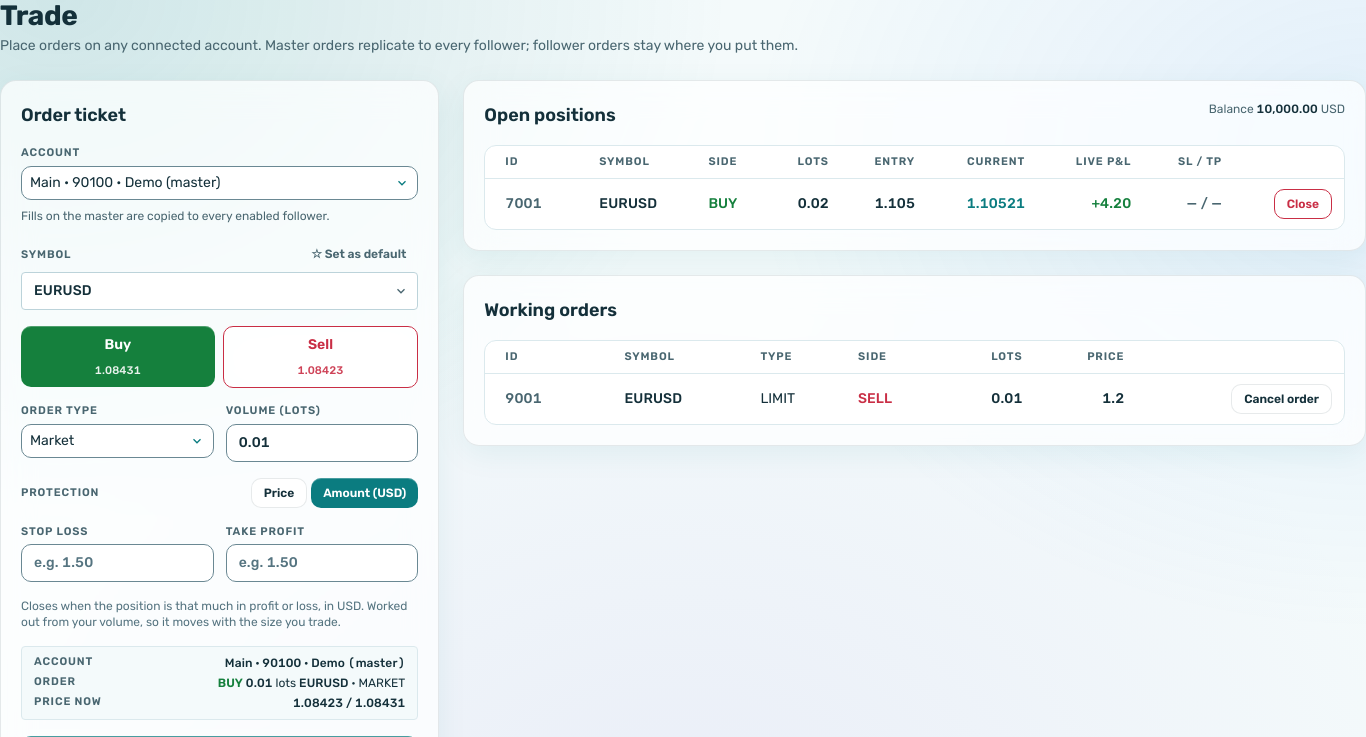
Test: symbol picker searches and selects manually
Replace the text in the dropdown labelled "Symbol" with "gbp" at (220, 291), box [21, 272, 418, 310]
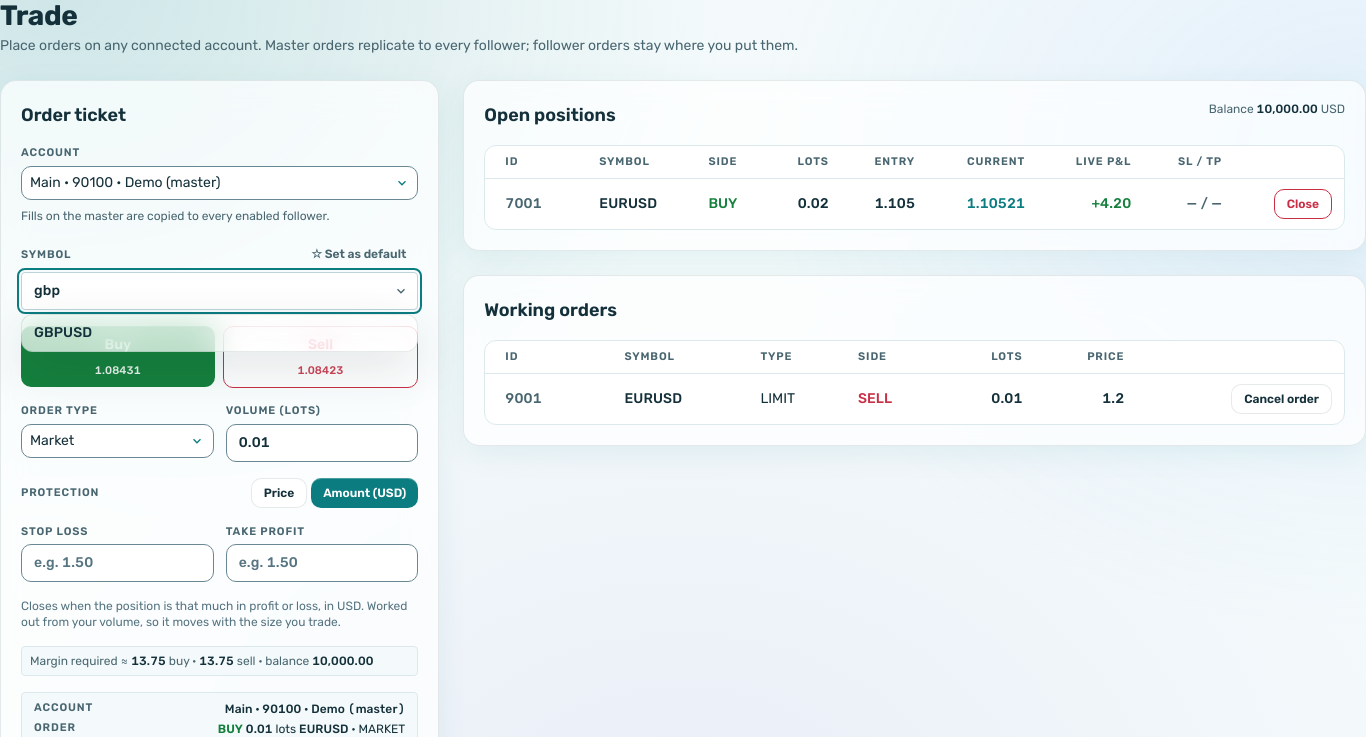
Click the option "GBPUSD".
click(63, 332)  # box [34, 324, 92, 341]
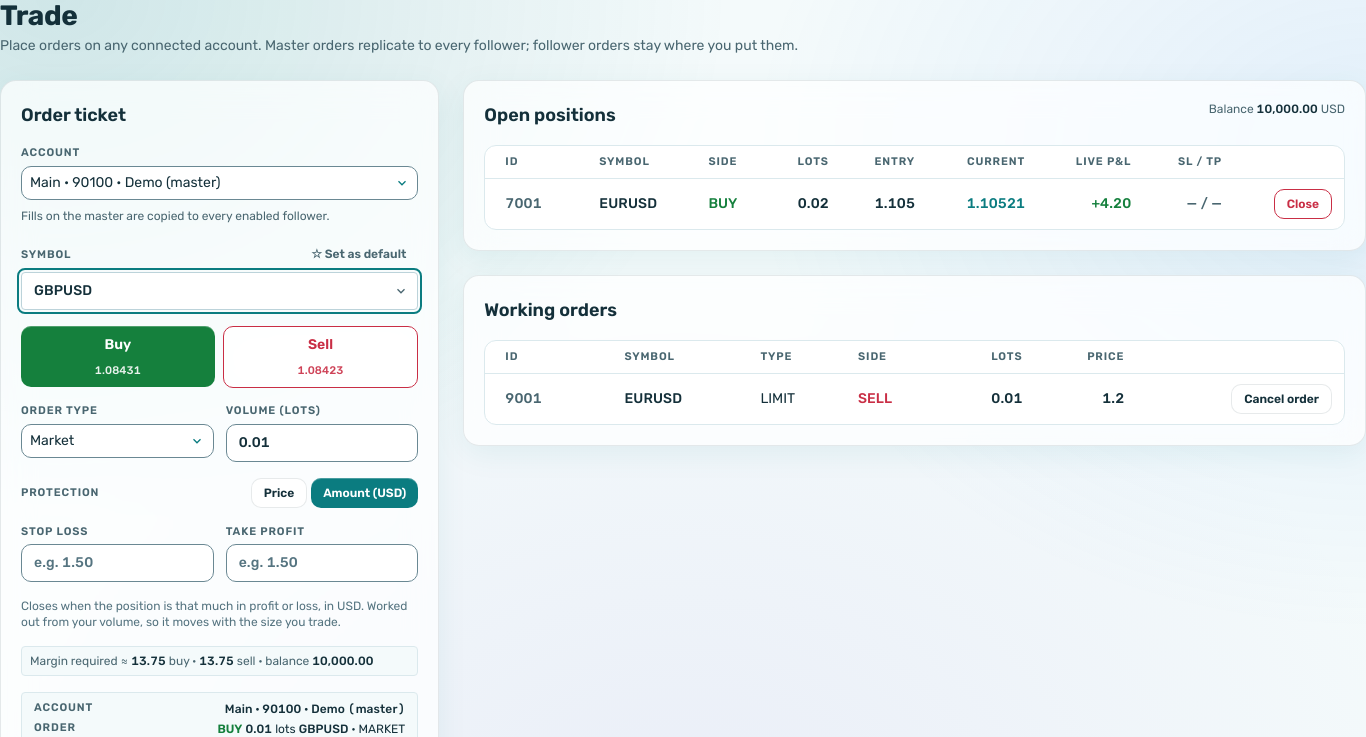
Check: the dropdown labelled "Symbol" holds "GBPUSD", box [21, 272, 418, 310]
